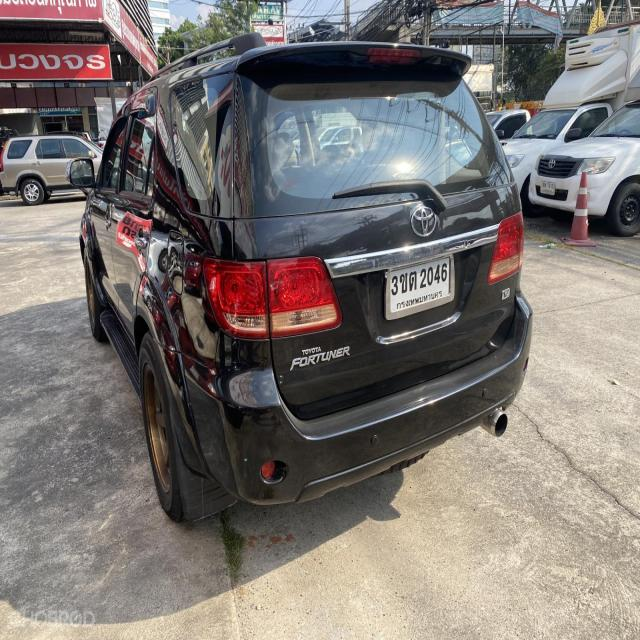license_plate: (383, 252, 456, 319), (539, 179, 559, 198)
